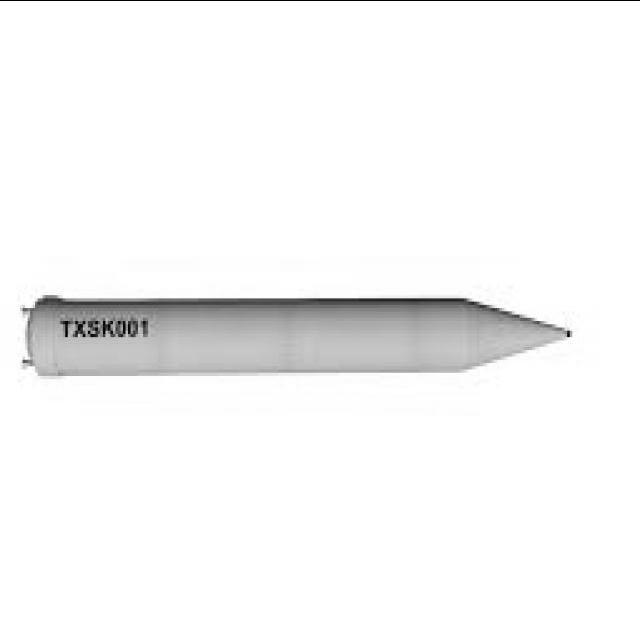missile: (16, 269, 577, 391)
